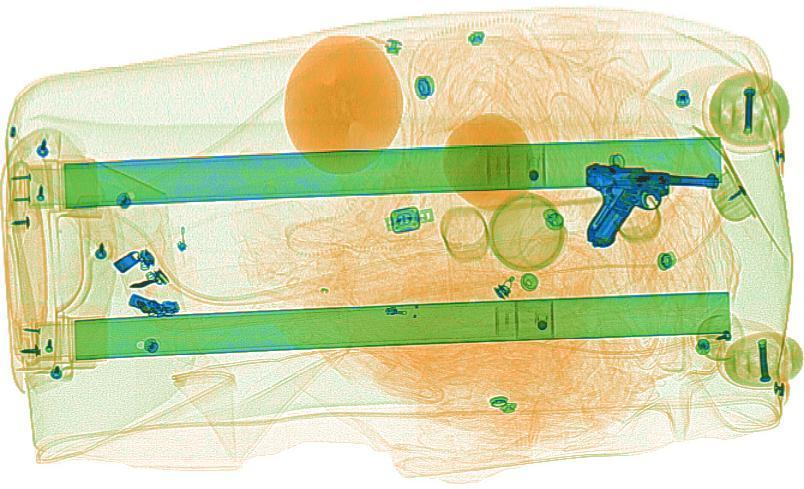Gun: (564, 163, 719, 253)
